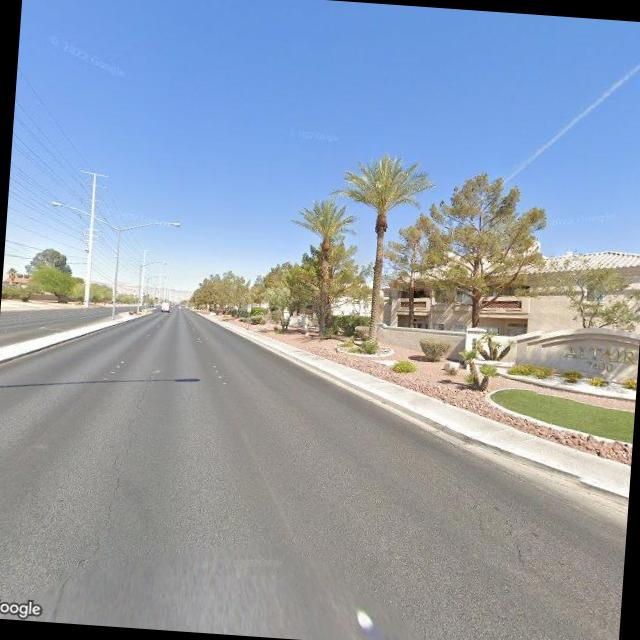crack: (74, 385, 145, 600)
